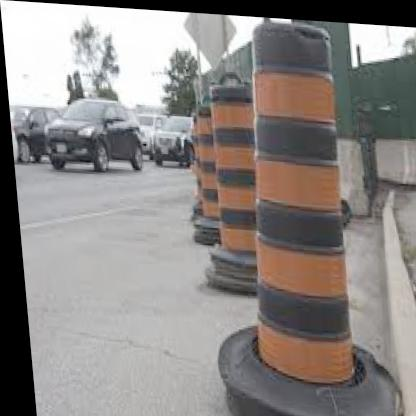obstacle: (219, 16, 362, 379)
